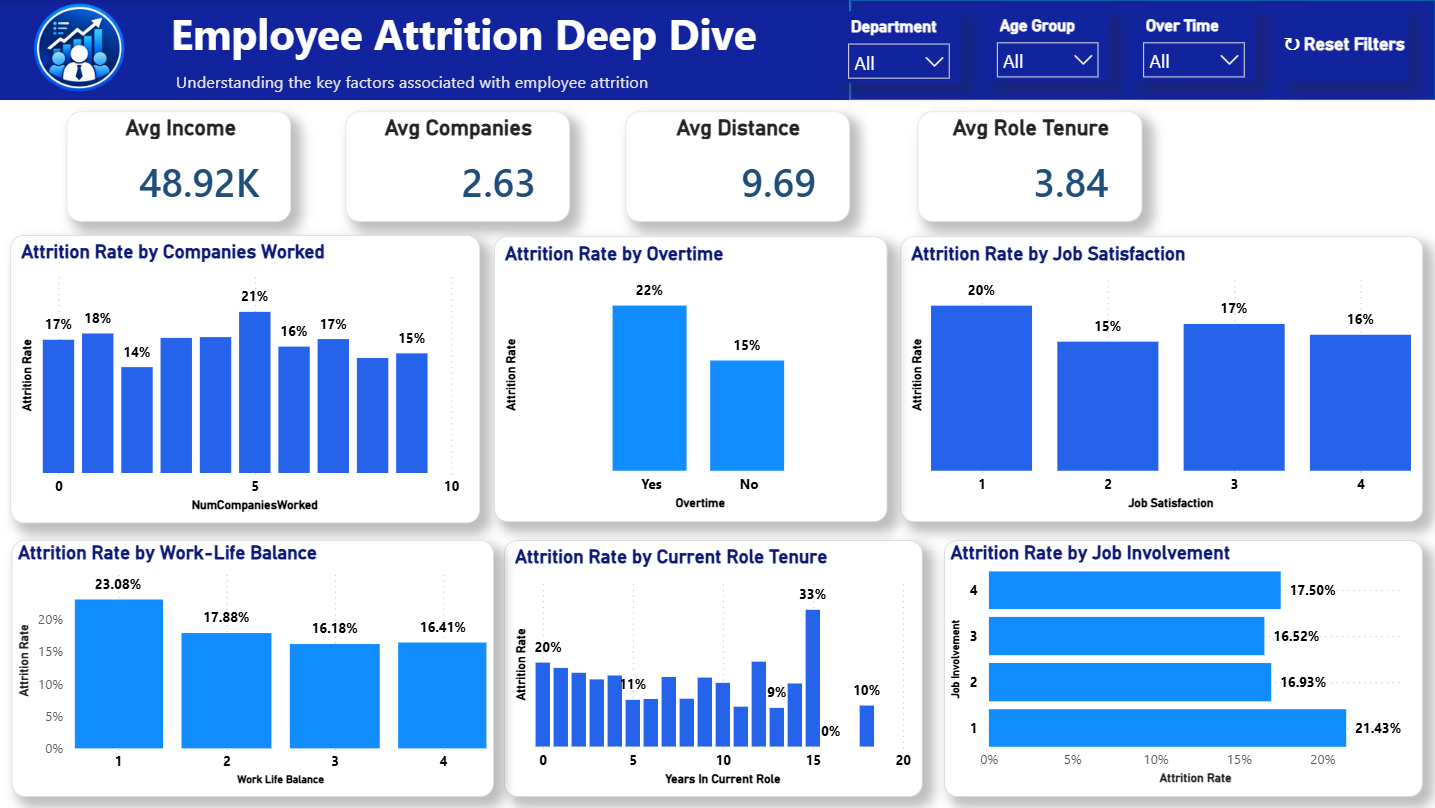

The dashboard page shown, as its layout file describes it:
{"tool":"powerbi","page":{"name":"Attrition Deep Dive","canvas":[1280,720],"ordinal":1},"visuals":[{"type":"cardVisual","title":"Avg Role Tenure","fields":{"Data":["HR_Analytics.Avg Role Tenure Attrited"]},"box":[818.6,98.8,200,98],"z":0},{"type":"cardVisual","title":"Avg Companies","fields":{"Data":["HR_Analytics.Avg Companies Attrited"]},"box":[308.1,98.8,200,98],"z":1000},{"type":"cardVisual","title":"Avg Distance","fields":{"Data":["HR_Analytics.Avg Distance Attrited"]},"box":[558.1,98.8,200,98],"z":2000},{"type":"cardVisual","title":"Avg Income","fields":{"Data":["HR_Analytics.Avg Income Attrited"]},"box":[60.5,98.8,200,98],"z":3000},{"type":"clusteredColumnChart","title":"Attrition Rate by Companies Worked","fields":{"Category":["HR_Analytics.NumCompaniesWorked"],"Y":["HR_Analytics.Attrition Rate %"]},"box":[10,209.3,418.6,257.1],"z":4000},{"type":"clusteredBarChart","title":"Attrition Rate by Job Involvement","fields":{"Category":["HR_Analytics.JobInvolvement"],"Y":["HR_Analytics.Attrition Rate %"]},"box":[842.1,480.4,426.6,229.2],"z":5000},{"type":"textbox","box":[0,0,758,66.9],"z":6000},{"type":"textbox","box":[0,58.3,758,30.9],"z":7000},{"type":"image","box":[0,0,144.7,87.9],"z":8000},{"type":"clusteredColumnChart","title":"Attrition Rate by Current Role Tenure","fields":{"Category":["HR_Analytics.YearsinCurrentRole"],"Y":["HR_Analytics.Attrition Rate %"]},"box":[450,480.4,372.7,229.2],"z":9000},{"type":"clusteredColumnChart","title":"Attrition Rate by Work-Life Balance","fields":{"Category":["HR_Analytics.WorkLifeBalance"],"Y":["HR_Analytics.Attrition Rate %"]},"box":[11,480.4,429.3,229.2],"z":10000},{"type":"clusteredColumnChart","title":"Attrition Rate by Job Satisfaction","fields":{"Category":["HR_Analytics.JobSatisfaction"],"Y":["HR_Analytics.Attrition Rate %"]},"box":[802.1,209.8,465.2,254],"z":11000},{"type":"clusteredColumnChart","title":"Attrition Rate by Overtime","fields":{"Y":["HR_Analytics.Attrition Rate %"],"Category":["HR_Analytics.OverTime"]},"box":[440.4,209.8,350.7,254],"z":12000},{"type":"shape","box":[758,0,521.3,89.2],"z":13000},{"type":"slicer","fields":{"Values":["HR_Analytics.Department"]},"box":[746,10.3,111,64],"z":14000},{"type":"slicer","fields":{"Values":["HR_Analytics.AgeGroup"]},"box":[878,8.6,111,64],"z":15000},{"type":"slicer","fields":{"Values":["HR_Analytics.OverTime"]},"box":[1008.4,8.6,111,64],"z":16000},{"type":"actionButton","title":"↻ Reset Filters","box":[1143.9,8.6,111,64],"z":17000}]}

Visuals, with their boxes in screenshot pixels (x1, y1, x2, y2), scaled from the page's 1280x720 canvas onto the 1435x808 screenshot:
"Avg Role Tenure" cardVisual: bbox=(918, 111, 1142, 221)
"Avg Companies" cardVisual: bbox=(345, 111, 570, 221)
"Avg Distance" cardVisual: bbox=(626, 111, 850, 221)
"Avg Income" cardVisual: bbox=(68, 111, 292, 221)
"Attrition Rate by Companies Worked" clusteredColumnChart: bbox=(11, 235, 481, 523)
"Attrition Rate by Job Involvement" clusteredBarChart: bbox=(944, 539, 1422, 796)
textbox: bbox=(0, 0, 850, 75)
textbox: bbox=(0, 65, 850, 100)
image: bbox=(0, 0, 162, 99)
"Attrition Rate by Current Role Tenure" clusteredColumnChart: bbox=(504, 539, 922, 796)
"Attrition Rate by Work-Life Balance" clusteredColumnChart: bbox=(12, 539, 494, 796)
"Attrition Rate by Job Satisfaction" clusteredColumnChart: bbox=(899, 235, 1421, 520)
"Attrition Rate by Overtime" clusteredColumnChart: bbox=(494, 235, 887, 520)
shape: bbox=(850, 0, 1434, 100)
slicer - HR_Analytics.Department: bbox=(836, 12, 961, 83)
slicer - HR_Analytics.AgeGroup: bbox=(984, 10, 1109, 81)
slicer - HR_Analytics.OverTime: bbox=(1131, 10, 1255, 81)
"↻ Reset Filters" actionButton: bbox=(1282, 10, 1407, 81)
